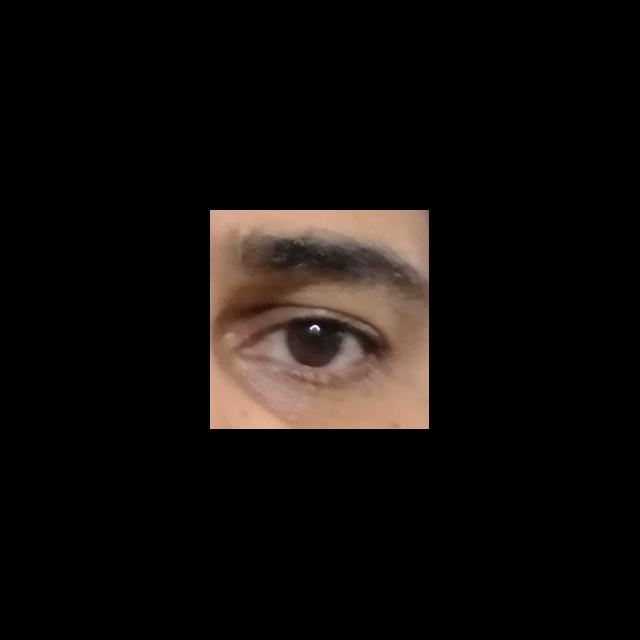eye: (258, 321, 373, 370)
iris: (287, 323, 347, 367)
